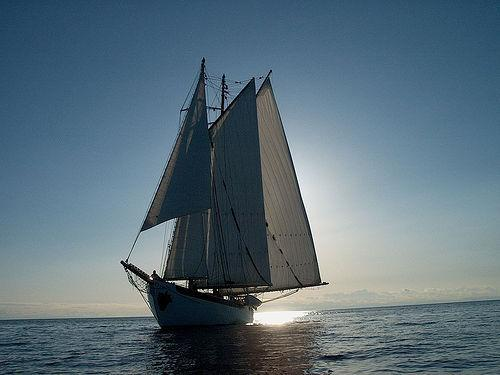Ship: (122, 56, 329, 325)
